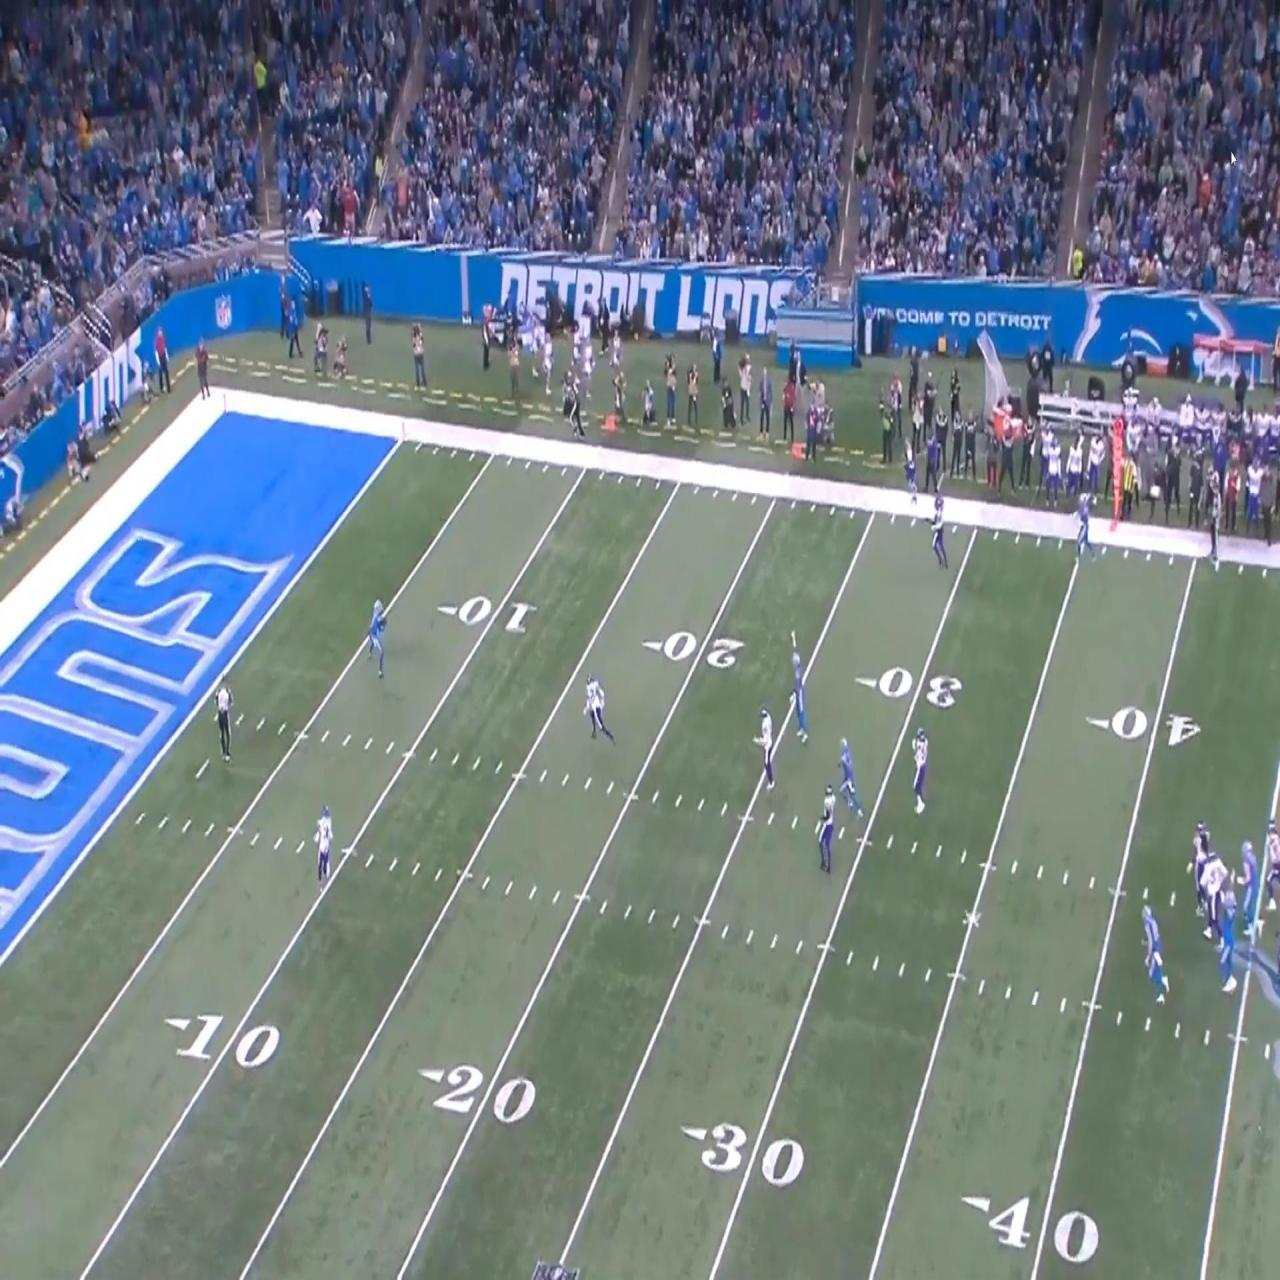10L: (164, 1012, 282, 1070), (438, 596, 539, 634)
20L: (418, 1065, 537, 1124), (643, 632, 744, 674)
30L: (680, 1118, 805, 1188), (856, 666, 963, 716)
40L: (959, 1188, 1100, 1264), (1084, 705, 1205, 747)
